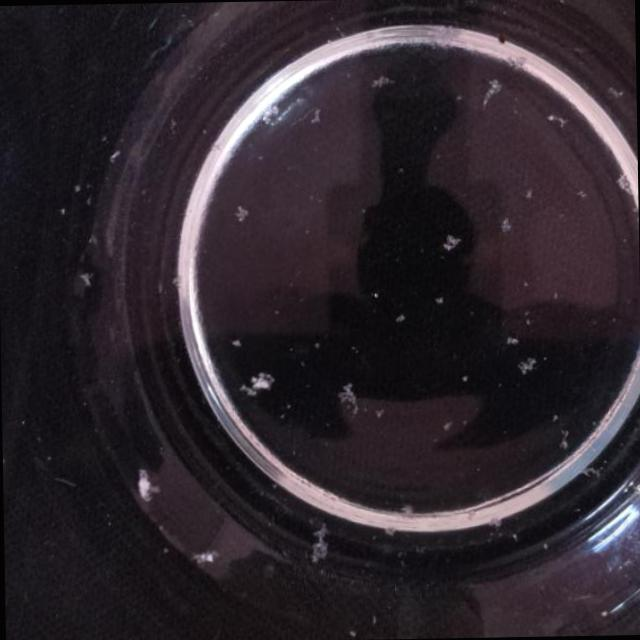fiber: (238, 368, 276, 404), (308, 520, 332, 568), (334, 381, 361, 420), (478, 77, 504, 113), (134, 468, 160, 504), (514, 352, 546, 379), (188, 544, 222, 568), (612, 170, 634, 200), (440, 414, 470, 434), (368, 74, 398, 92), (545, 112, 571, 130), (73, 267, 93, 290), (604, 84, 624, 104), (442, 234, 462, 253), (397, 501, 415, 521), (486, 514, 506, 531), (372, 401, 388, 421), (233, 204, 249, 224), (558, 426, 570, 452), (498, 216, 512, 237), (229, 334, 245, 352), (308, 107, 322, 126), (106, 149, 120, 166), (504, 330, 518, 346), (453, 90, 467, 103), (394, 312, 406, 326), (522, 188, 534, 202), (574, 187, 586, 200), (549, 412, 562, 423), (72, 184, 82, 196), (313, 339, 322, 352), (459, 374, 470, 384), (434, 296, 445, 306), (58, 206, 67, 217), (372, 290, 379, 300)
